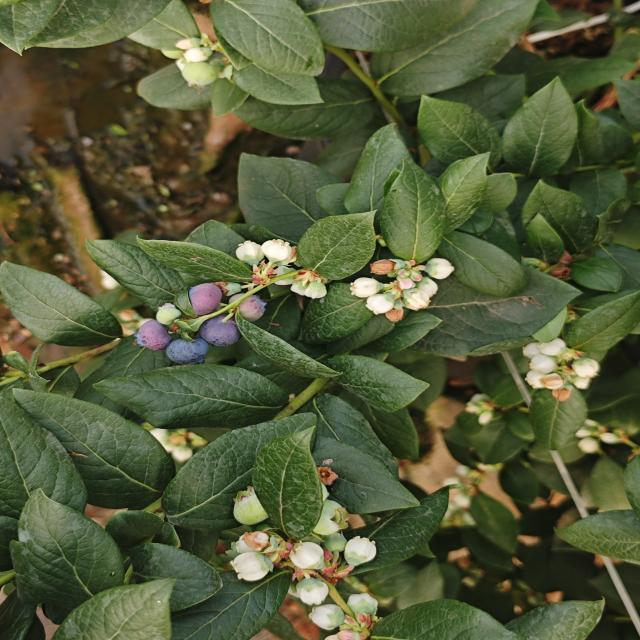ripe: (162, 336, 212, 366), (185, 281, 225, 318), (132, 318, 173, 353), (200, 315, 244, 346)
